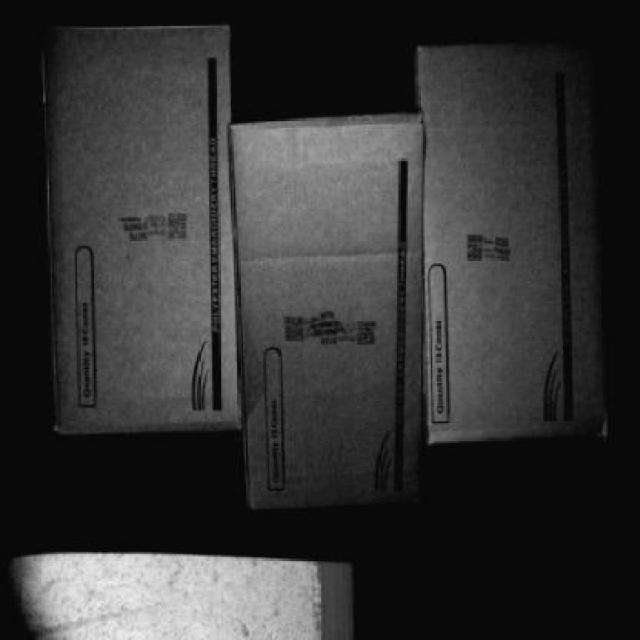box: (42, 15, 238, 428), (238, 116, 430, 504), (419, 40, 607, 434)
